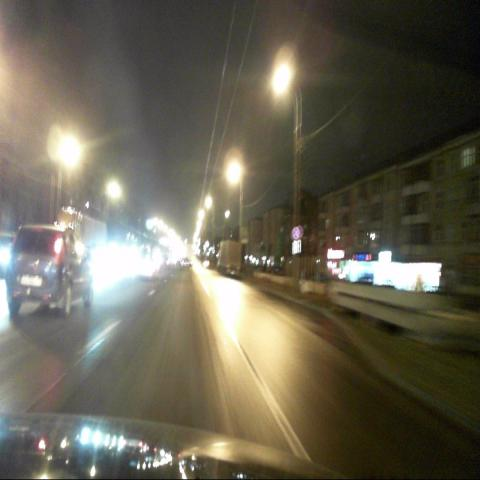3_27: (292, 226, 300, 239)
